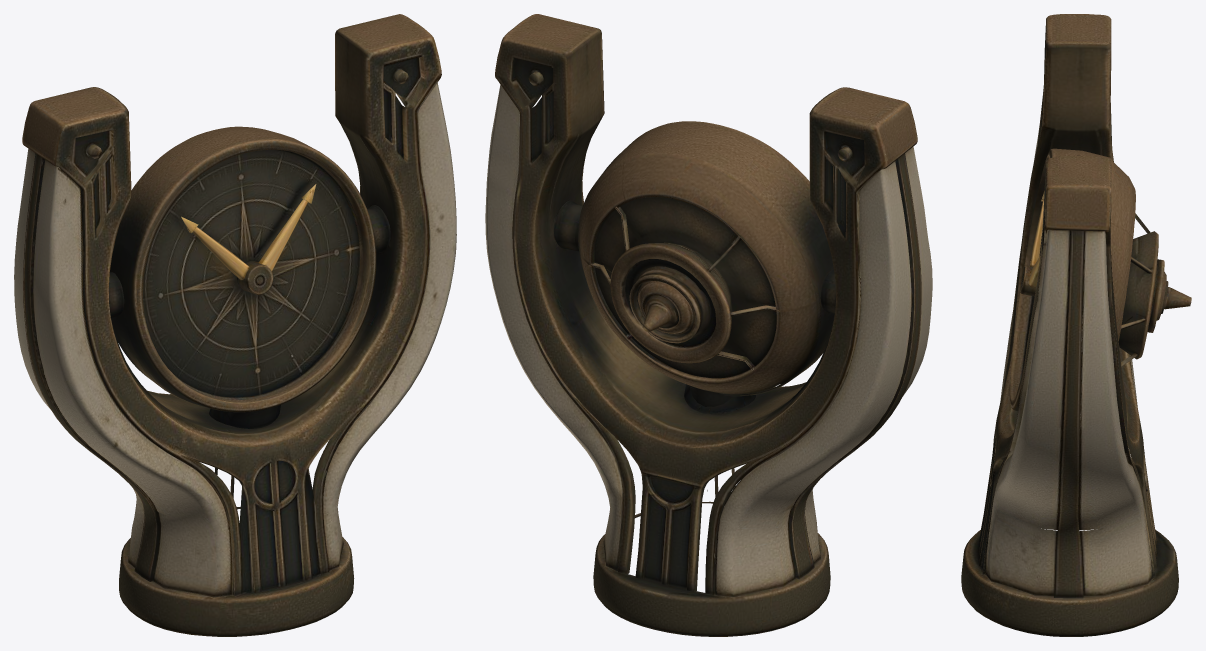
The model's file is fork-compass.glb.
3 views of the same model, side by side, from view 1: azimuth 30°, elevation 25°; view 2: azimuth 150°, elevation 25°; view 3: azimuth 270°, elevation 25° (orthographic). The views are drawn at different scales.
Parts seen in each view (by area): view 1: c1e81f08_609f_4973_98d5_091bdc2ced6c; view 2: c1e81f08_609f_4973_98d5_091bdc2ced6c; view 3: c1e81f08_609f_4973_98d5_091bdc2ced6c.
Part boxes in pixels (x1,y1,x2,y2): c1e81f08_609f_4973_98d5_091bdc2ced6c: (14,14,456,636); c1e81f08_609f_4973_98d5_091bdc2ced6c: (485,14,932,636); c1e81f08_609f_4973_98d5_091bdc2ced6c: (961,14,1191,636).
Size of the model in its own units: 0.8354 by 0.9995 by 0.4233.
Materials: 1 (1 with a texture image).
